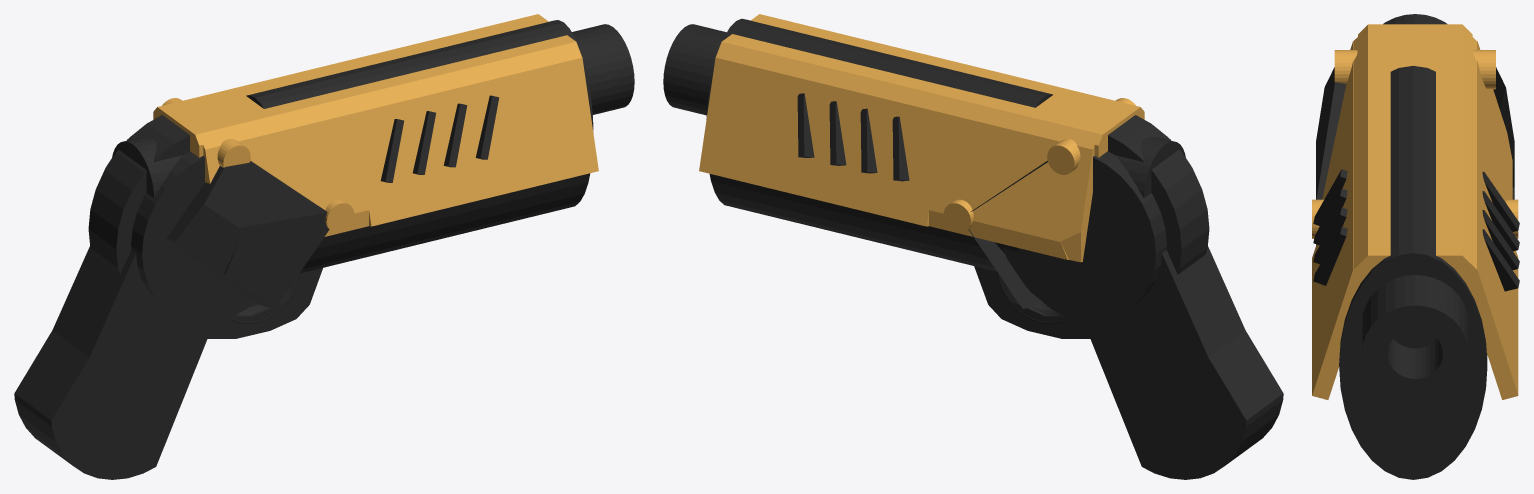
File: pistol.fbx
3 views of the same model, side by side, from view 1: azimuth 30°, elevation 25°; view 2: azimuth 150°, elevation 25°; view 3: azimuth 270°, elevation 25° (orthographic). The views are drawn at different scales.
Visible parts, largest first — view 1: Cube.002; view 2: Cube.002; view 3: Cube.002.
Boxes of the visible parts, <box> form: Cube.002: <box>14,14,634,479</box>; Cube.002: <box>663,14,1283,479</box>; Cube.002: <box>1312,14,1519,479</box>.
Size of the model in its own units: 1453 by 796 by 363.
